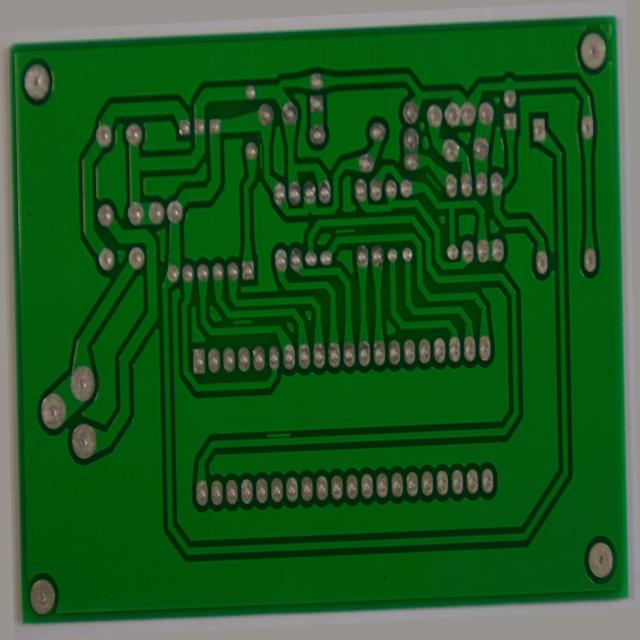spurious_copper: (225, 306, 255, 329), (258, 431, 291, 449), (429, 166, 449, 195), (255, 128, 272, 160), (335, 217, 359, 237)
